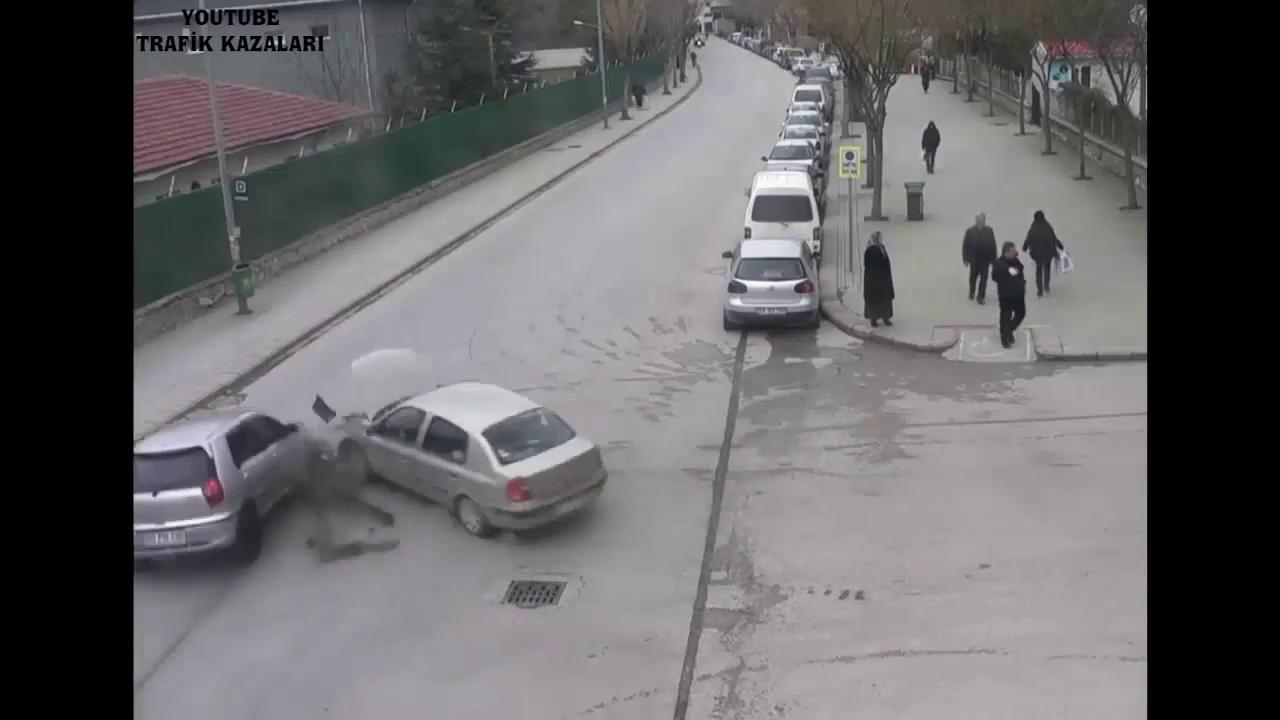car-accident: (134, 388, 615, 553)
